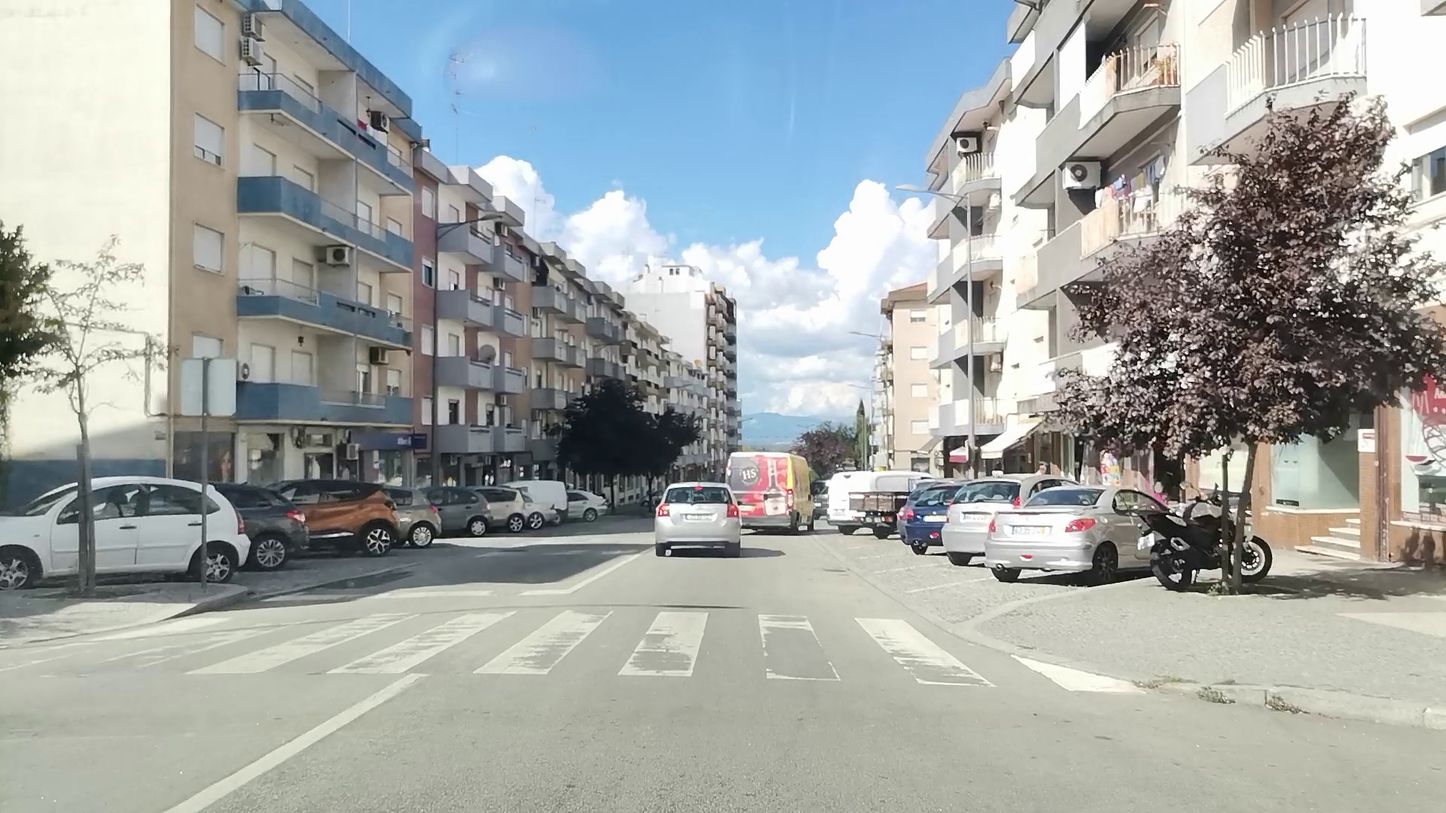Stairs: (0, 608, 1143, 698)
